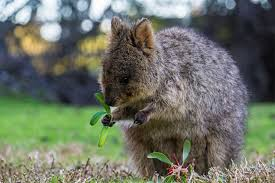quokka: (89, 1, 256, 172)
